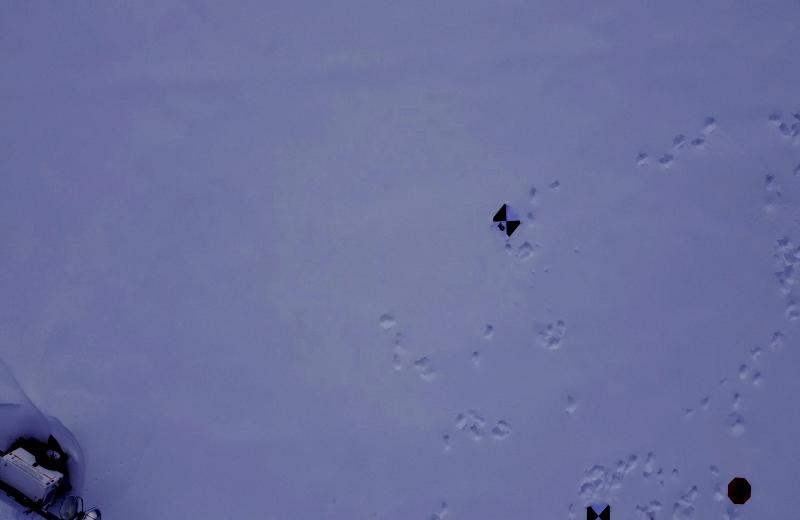Octagon: (725, 473, 756, 508)
